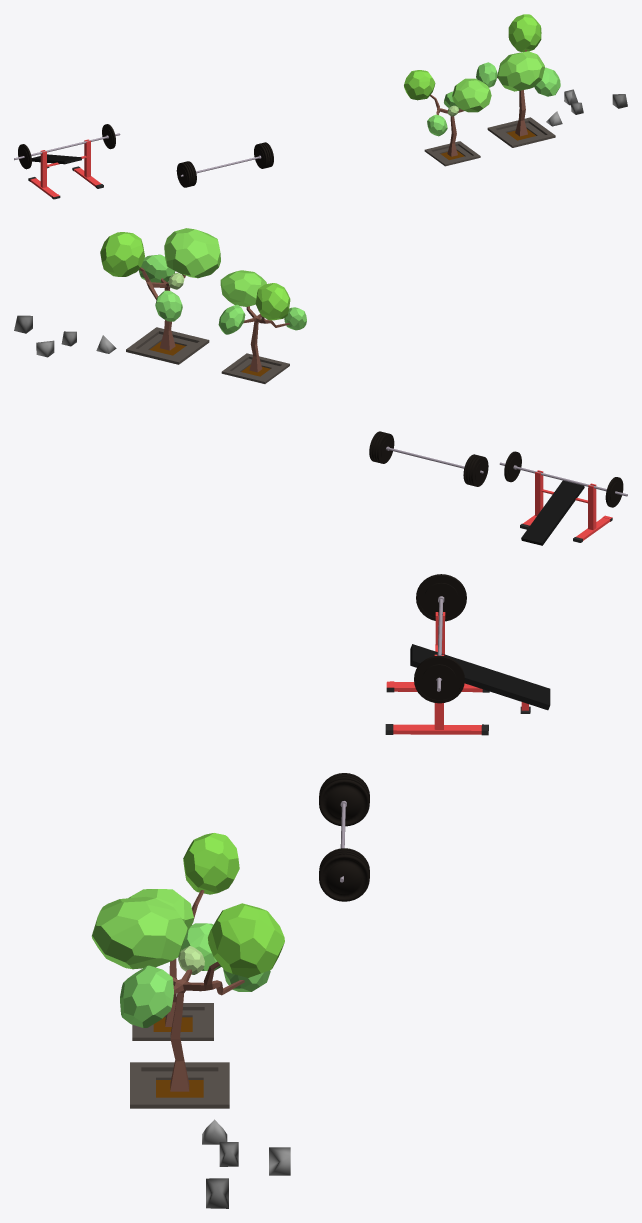
The model's file is drevo.glb.
3 views of the same model, one above another, from view 1: azimuth 30°, elevation 25°; view 2: azimuth 150°, elevation 25°; view 3: azimuth 270°, elevation 25° (orthographic). The views are drawn at different scales.
Visible parts, largest first — view 1: Circle, Icosphere, Icosphere.009, Icosphere.001, Plane, Circle.002, Icosphere.008, Plane.004, Icosphere.004, Icosphere.002, Vert.002, Vert.001 (+1 smaller); view 2: Circle, Icosphere, Icosphere.001, Circle.002, Plane, Icosphere.009, Icosphere.008, Plane.004, Icosphere.004, Icosphere.002, Vert.002, Vert.001 (+1 smaller); view 3: Circle, Icosphere, Icosphere.001, Plane, Icosphere.008, Icosphere.004, Vert.001, Circle.001, Circle.005, Plane.004, Circle.002, Icosphere.009 (+1 smaller).
Part boxes in pixels (x1,y1,x2,y2): Circle: (14, 124, 120, 199); Icosphere: (497, 51, 544, 91); Icosphere.009: (452, 78, 491, 112); Icosphere.001: (508, 14, 541, 51); Plane: (487, 117, 555, 147); Circle.002: (176, 142, 272, 187); Icosphere.008: (404, 70, 435, 100); Plane.004: (424, 141, 480, 166); Icosphere.004: (534, 67, 560, 96); Icosphere.002: (476, 62, 497, 87); Vert.002: (430, 94, 464, 156); Vert.001: (497, 49, 527, 136); Circle: (499, 451, 627, 545); Icosphere: (164, 228, 220, 278); Icosphere.001: (100, 232, 144, 276); Circle.002: (369, 431, 488, 486); Plane: (126, 327, 209, 364); Icosphere.009: (220, 270, 266, 306); Icosphere.008: (255, 283, 290, 320); Plane.004: (221, 353, 289, 383); Icosphere.004: (138, 254, 175, 282); Icosphere.002: (155, 290, 182, 321); Vert.002: (243, 306, 289, 372); Vert.001: (139, 267, 185, 350); Circle: (385, 574, 550, 735); Icosphere: (91, 897, 187, 969); Icosphere.001: (208, 903, 284, 977); Plane: (130, 1062, 229, 1108); Icosphere.008: (183, 833, 239, 894); Icosphere.004: (120, 965, 173, 1027); Vert.001: (170, 961, 244, 1091); Circle.001: (319, 854, 369, 901); Circle.005: (319, 779, 369, 826); Plane.004: (132, 1003, 213, 1040); Circle.002: (319, 773, 369, 898); Icosphere.009: (128, 889, 193, 933).
Size of the model in its own units: 53.82 by 10.3 by 19.25.
